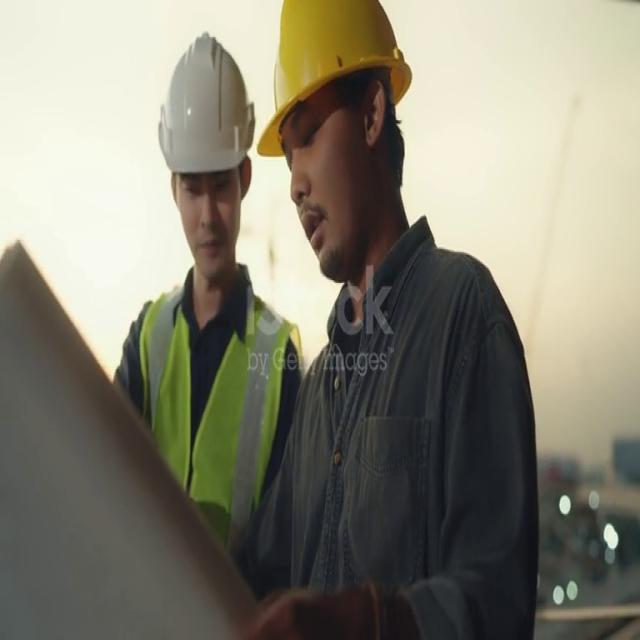capacete: (257, 0, 415, 188), (156, 32, 264, 202)
